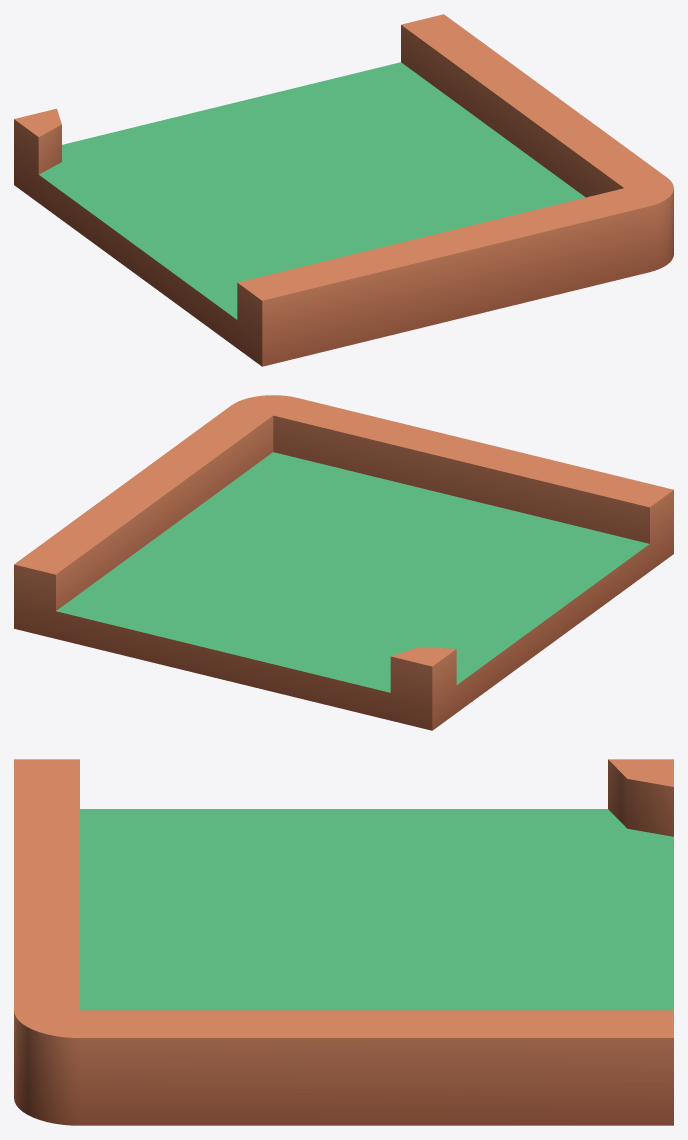
File: square-corner-a.glb
3 views of the same model, one above another, from view 1: azimuth 30°, elevation 25°; view 2: azimuth 150°, elevation 25°; view 3: azimuth 270°, elevation 25° (orthographic). The views are drawn at different scales.
Visible parts, largest first — view 1: square-corner-a; view 2: square-corner-a; view 3: square-corner-a.
Part boxes in pixels (left/top/right/bottom): square-corner-a: left=14, top=14, right=673, bottom=366; square-corner-a: left=14, top=395, right=673, bottom=730; square-corner-a: left=14, top=759, right=673, bottom=1125.
Size of the model in its own units: 0.9999 by 0.1467 by 0.9999.
Materials: 1 (1 with a texture image).
